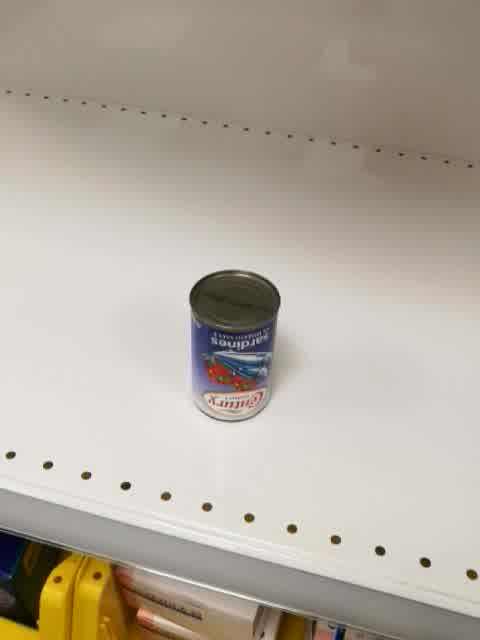sardine: (189, 269, 282, 424)
